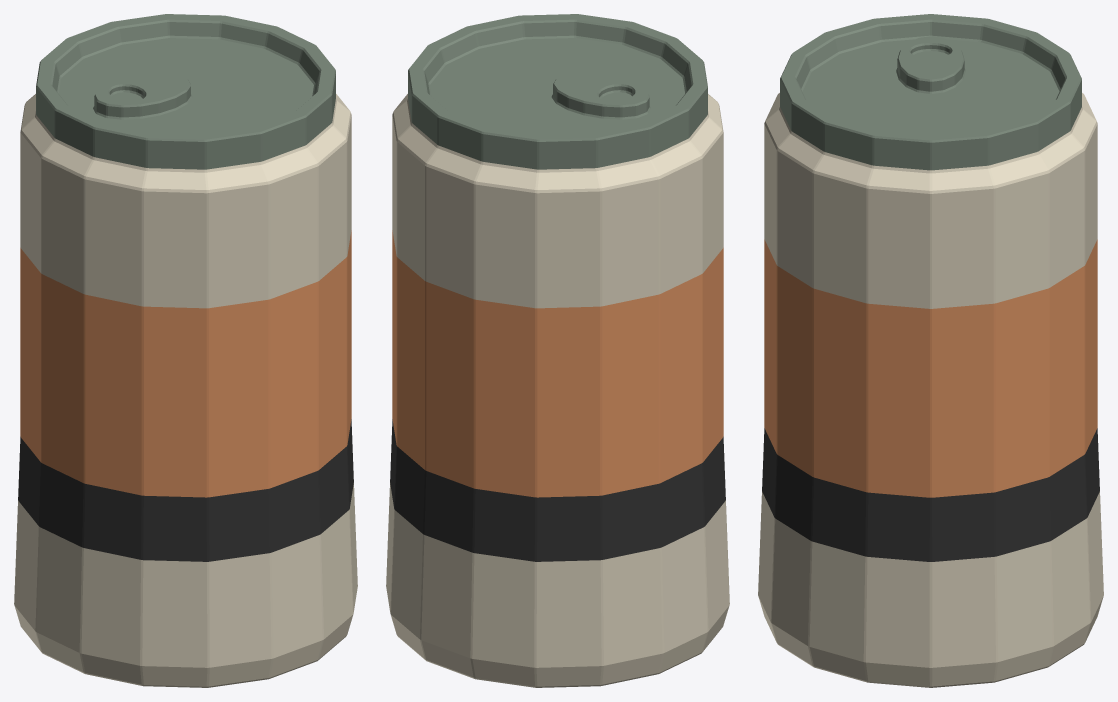
Rendered from Can_7_Partyassets.fbx.
The picture shows the model from 3 angles, left to right: view 1: azimuth 30°, elevation 25°; view 2: azimuth 150°, elevation 25°; view 3: azimuth 270°, elevation 25°; orthographic projection.
Parts seen in each view (by area): view 1: Can_7_Partyassets; view 2: Can_7_Partyassets; view 3: Can_7_Partyassets.
Part boxes in pixels (<box>): Can_7_Partyassets: <box>14,14,357,687</box>; Can_7_Partyassets: <box>386,14,729,687</box>; Can_7_Partyassets: <box>758,14,1103,687</box>.
Size of the model in its own units: 5.9 by 10.18 by 5.9.
